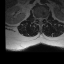CCS_normal: (39, 15, 41, 23)
LFS_stenosis: (43, 15, 45, 21)
LLS_normal: (41, 15, 43, 22)
RFS_normal: (36, 15, 38, 21)
RLS_normal: (37, 16, 39, 21)
